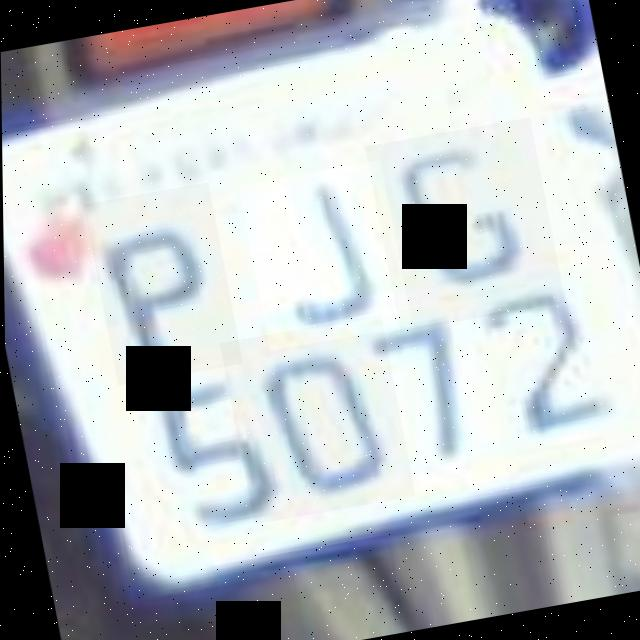0: (218, 314, 414, 524)
5: (108, 337, 293, 536)
7: (331, 294, 508, 504)
G: (364, 117, 564, 331)
J: (237, 160, 411, 350)
P: (82, 182, 241, 385)
